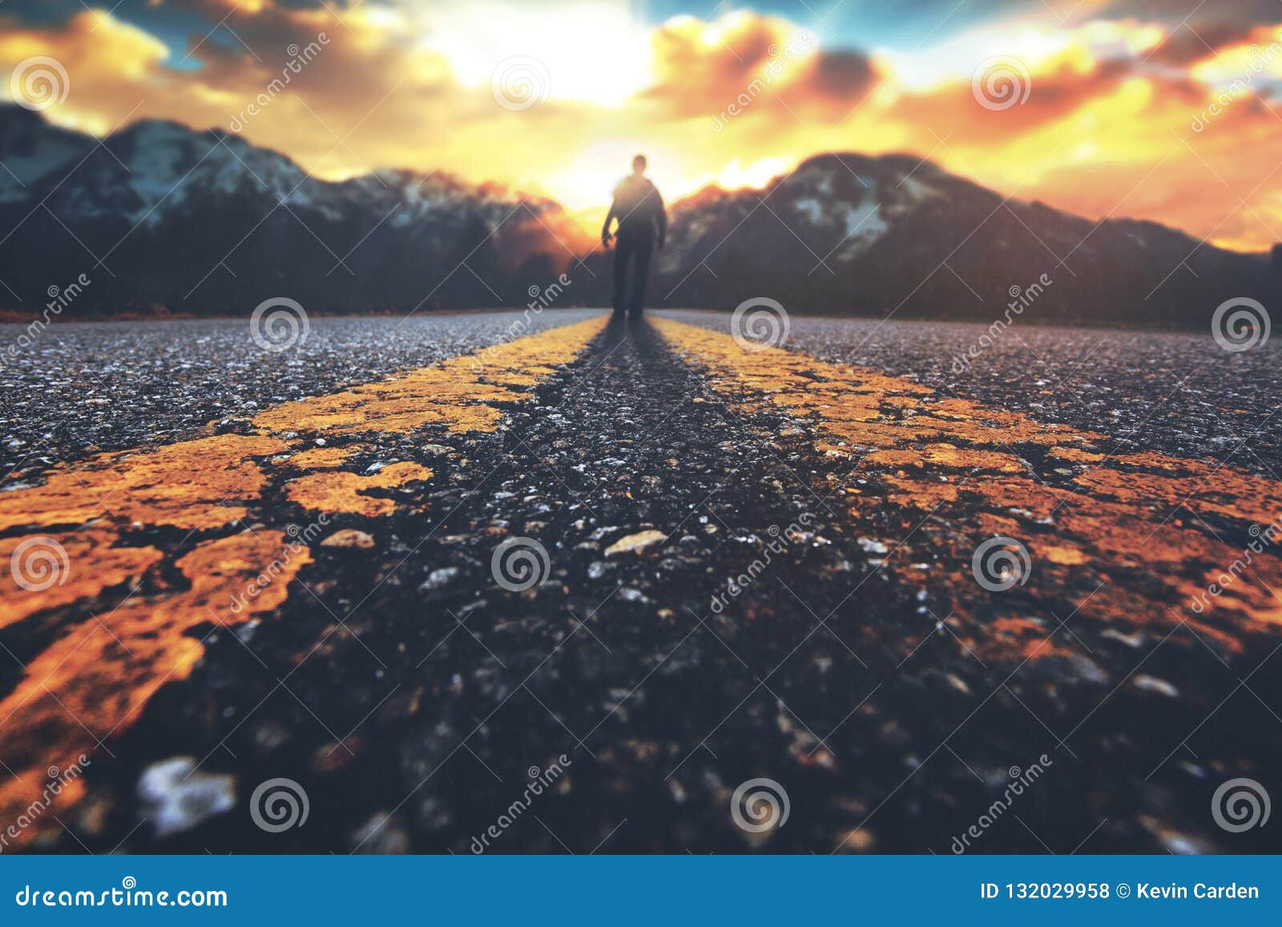Person: (588, 141, 681, 326)
